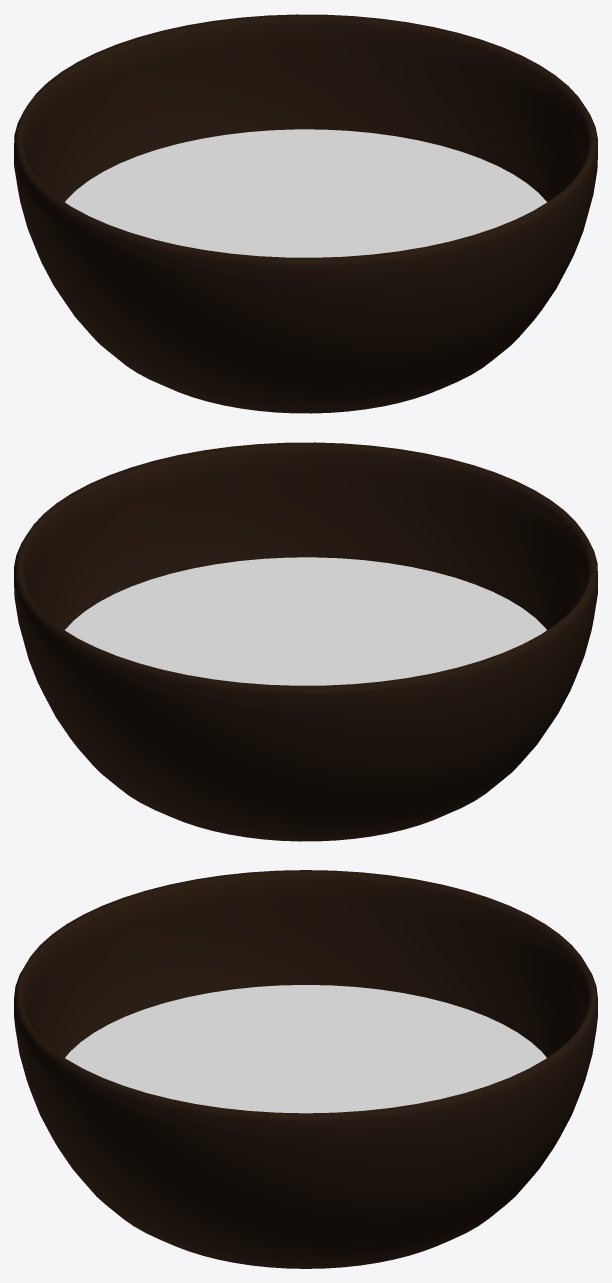
The model's file is BlackRocksGravel.fbx.
3 renders of one model, top to bottom at view 1: azimuth 30°, elevation 25°; view 2: azimuth 150°, elevation 25°; view 3: azimuth 270°, elevation 25°, orthographic.
Parts seen in each view (by area): view 1: Bowl, Circle; view 2: Bowl, Circle; view 3: Bowl, Circle.
Boxes of the visible parts, x1,y1,x2,y2 form: Bowl: (14,14,597,413); Circle: (65,129,546,257); Bowl: (14,442,597,841); Circle: (65,557,546,685); Bowl: (14,870,597,1268); Circle: (65,985,546,1113).
Bounding box in the file's own units: 181 × 71.75 × 181.
